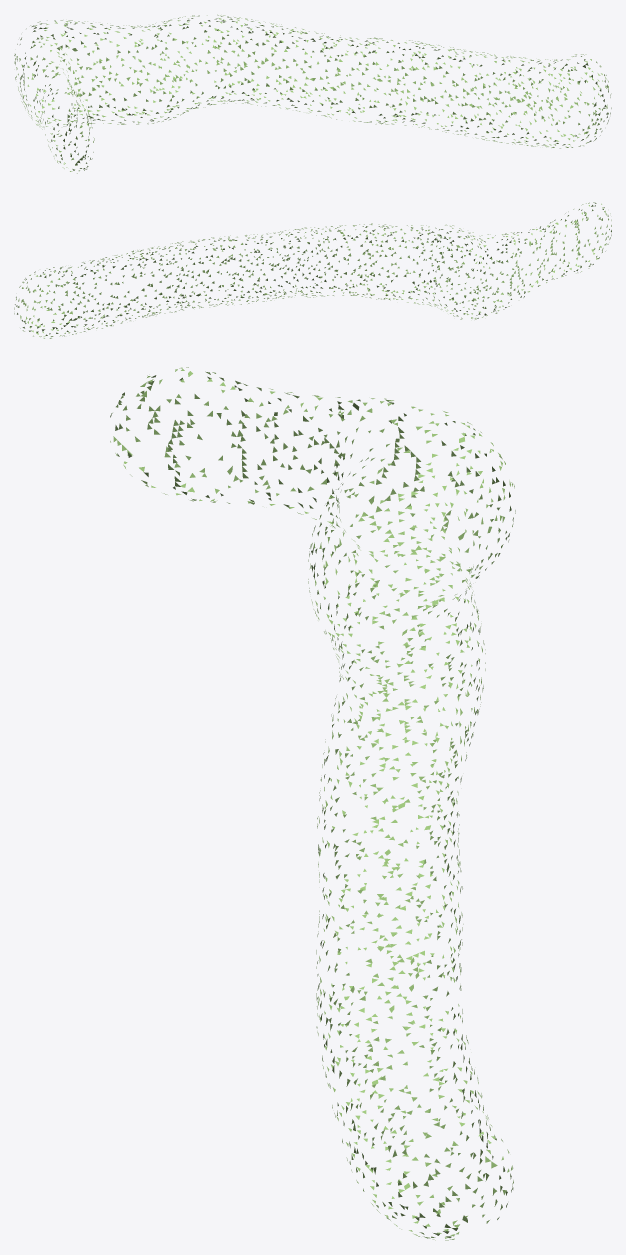
The model's file is morph_013.glb.
3 views of the same model, one above another, from view 1: azimuth 30°, elevation 25°; view 2: azimuth 150°, elevation 25°; view 3: azimuth 270°, elevation 25° (orthographic). The views are drawn at different scales.
Bounding box in the file's own units: 130 × 49.32 × 44.93.
